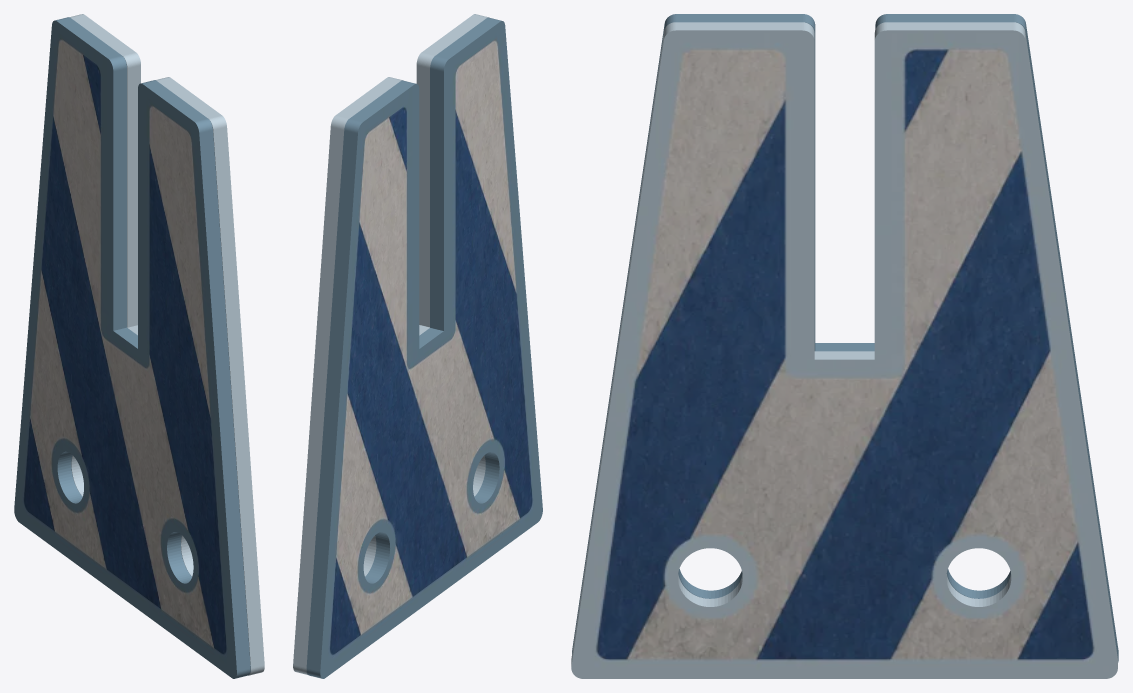
Rendered from bottom-stabilizer-02.glb.
3 views of the same model, side by side, from view 1: azimuth 30°, elevation 25°; view 2: azimuth 150°, elevation 25°; view 3: azimuth 270°, elevation 25° (orthographic). The views are drawn at different scales.
Parts seen in each view (by area): view 1: bottom-stabilizer-02; view 2: bottom-stabilizer-02; view 3: bottom-stabilizer-02.
Boxes of the visible parts, box(x1,y1,x2,y2) form: bottom-stabilizer-02: box(14, 14, 264, 678); bottom-stabilizer-02: box(293, 14, 542, 678); bottom-stabilizer-02: box(571, 14, 1118, 678).
Size of the model in its own units: 18 by 330 by 253.
4 materials, 2 textured.
